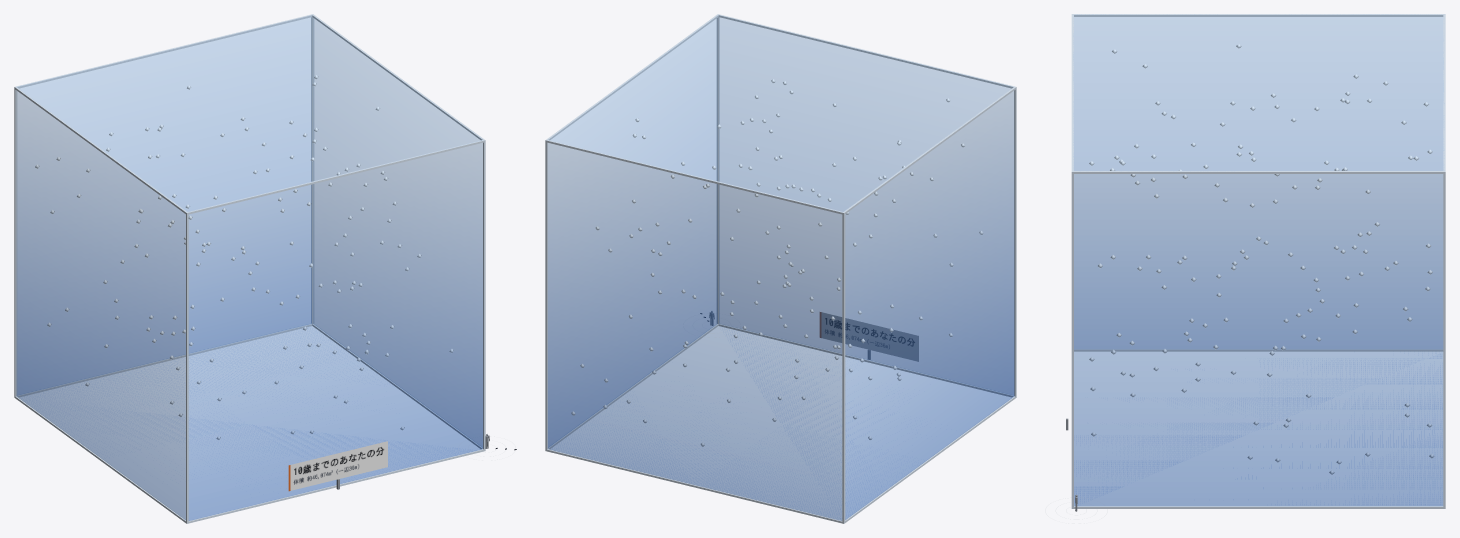
The model's file is cube_life_10.glb.
The picture shows the model from 3 angles, left to right: view 1: azimuth 30°, elevation 25°; view 2: azimuth 150°, elevation 25°; view 3: azimuth 270°, elevation 25°; orthographic projection. The views are drawn at different scales.
Visible parts, largest first — view 1: co2, edge, label, dots; view 2: co2, edge, label, dots; view 3: co2, edge, dots.
Part boxes in pixels (x1=…): co2: x1=16, y1=15, x2=482, y2=520; edge: x1=14, y1=14, x2=485, y2=523; label: x1=288, y1=441, x2=387, y2=491; dots: x1=35, y1=75, x2=453, y2=439; co2: x1=548, y1=15, x2=1014, y2=520; edge: x1=545, y1=14, x2=1016, y2=523; label: x1=820, y1=312, x2=918, y2=361; dots: x1=571, y1=79, x2=983, y2=446; co2: x1=1073, y1=15, x2=1444, y2=505; edge: x1=1071, y1=14, x2=1445, y2=508; dots: x1=1089, y1=44, x2=1434, y2=474.
Bounding box in the file's own units: 39.52 × 35.85 × 38.62.
Materials: 8 (3 with a texture image).
